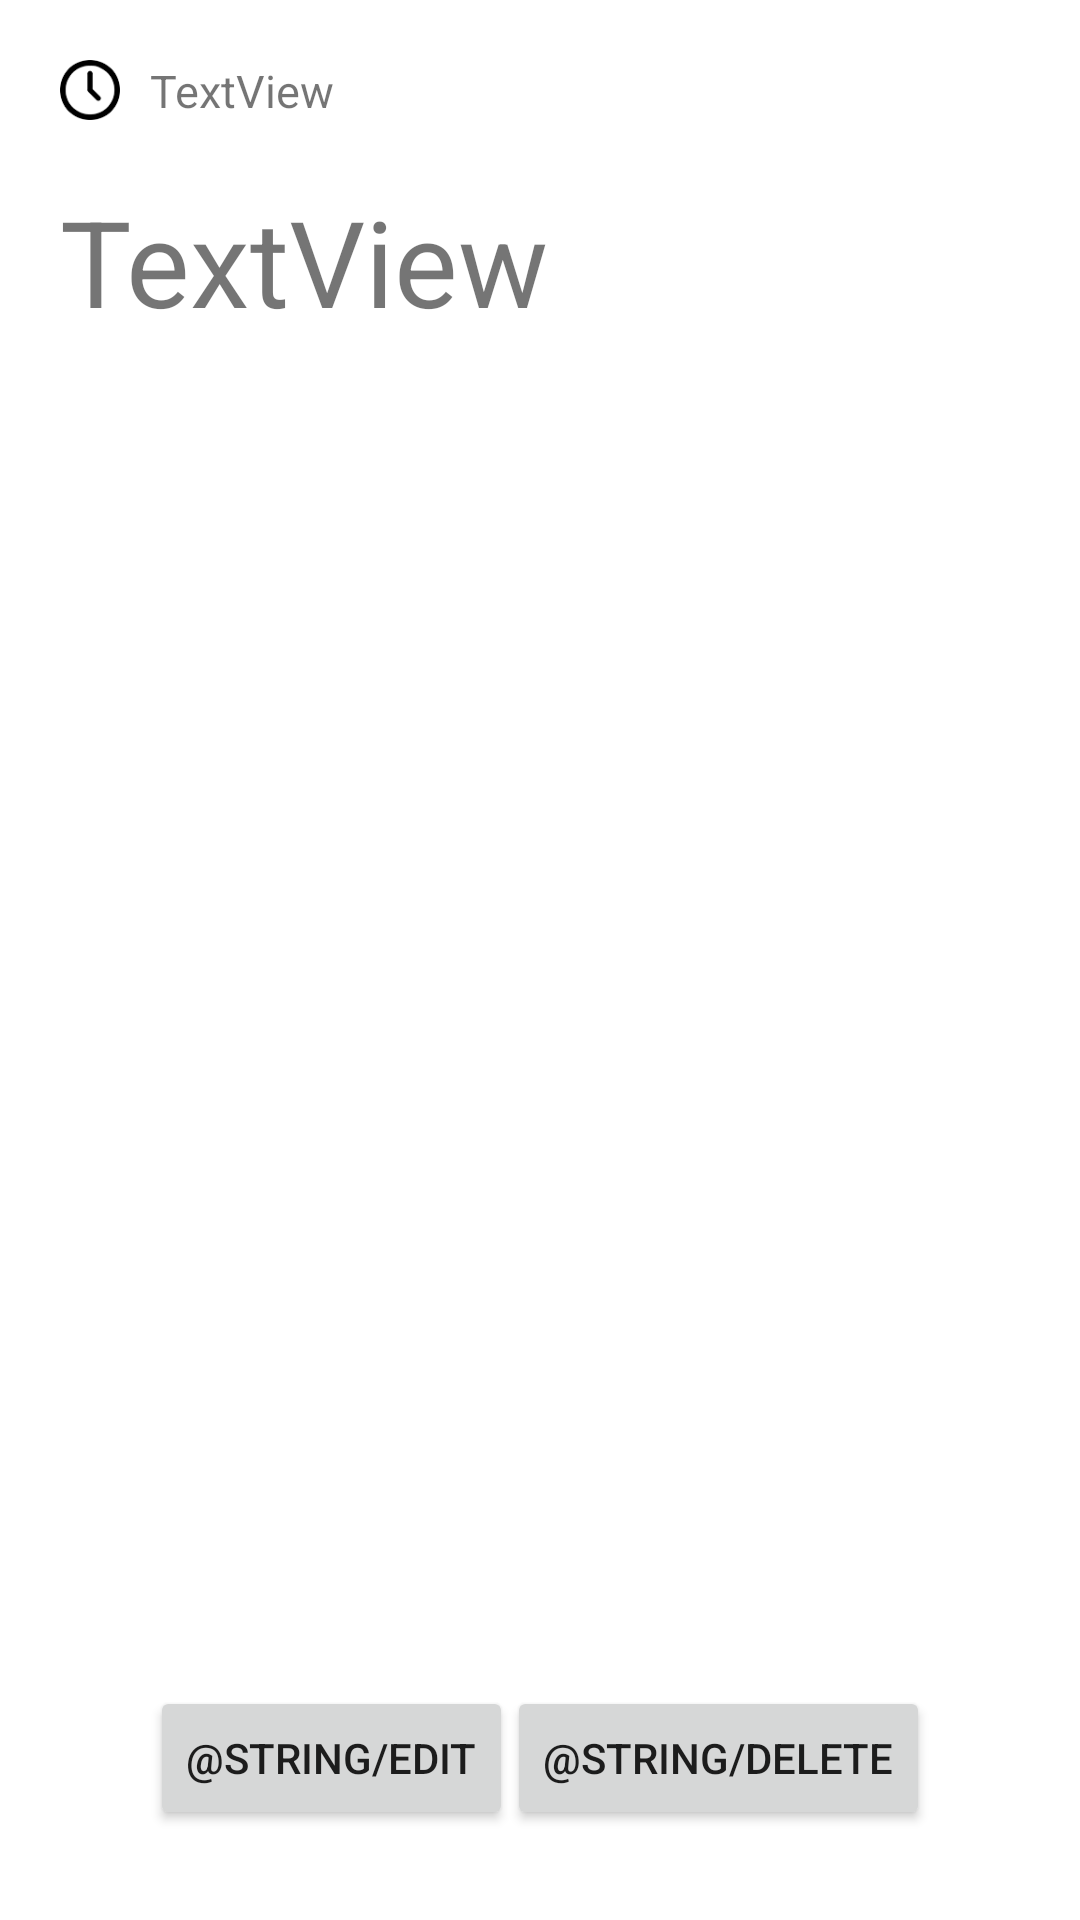

Icons on this 1080px x 1920px Android screen, each with its box as (x1, y1, x2, y2):
time: (60, 60, 120, 120)
